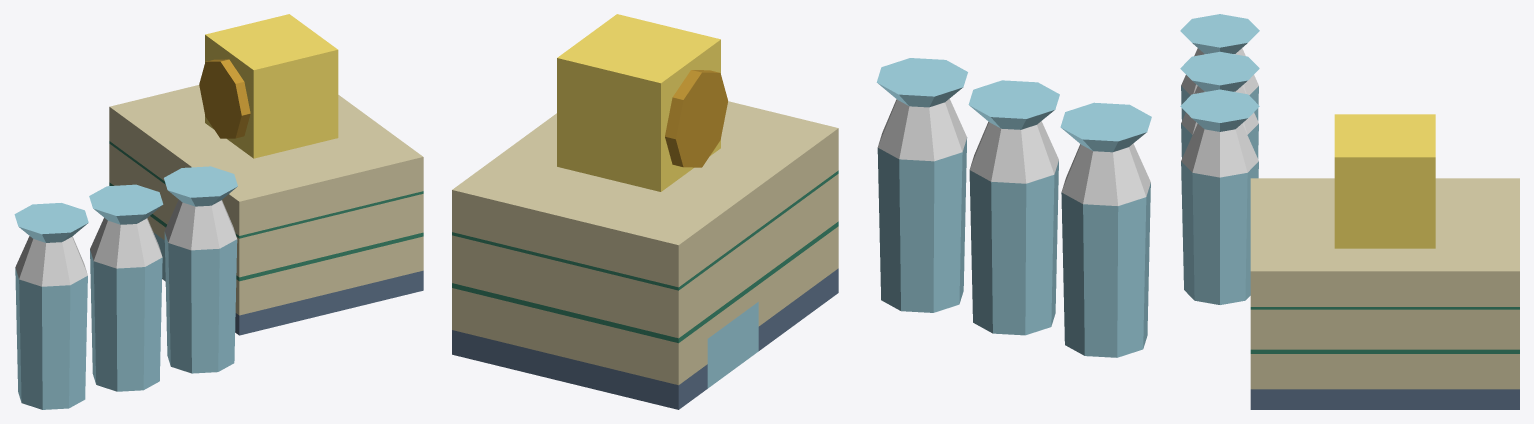
File: xCheeseFactory.fbx
3 renders of one model, left to right at view 1: azimuth 30°, elevation 25°; view 2: azimuth 150°, elevation 25°; view 3: azimuth 270°, elevation 25°, orthographic. The views are drawn at different scales.
Visible parts, largest first — view 1: Cylinder.007, Cylinder.013, Cylinder.015, Cylinder.016; view 2: Cylinder.007, Cylinder.016, Cylinder.013, Cylinder.015; view 3: Cylinder.007, Cylinder.015, Cylinder.013, Cylinder.016.
Boxes of the visible parts, bbox=[...] form: Cylinder.007: bbox=[109, 14, 423, 335]; Cylinder.013: bbox=[89, 184, 163, 391]; Cylinder.015: bbox=[164, 166, 237, 373]; Cylinder.016: bbox=[14, 203, 88, 409]; Cylinder.007: bbox=[452, 14, 838, 409]; Cylinder.016: bbox=[1060, 102, 1151, 357]; Cylinder.013: bbox=[968, 80, 1059, 335]; Cylinder.015: bbox=[876, 58, 967, 312]; Cylinder.007: bbox=[1250, 114, 1519, 409]; Cylinder.015: bbox=[1180, 89, 1259, 304]; Cylinder.013: bbox=[1180, 51, 1259, 158]; Cylinder.016: bbox=[1180, 14, 1259, 120].
Bounding box in the file's own units: 8211 × 4151 × 5552.
